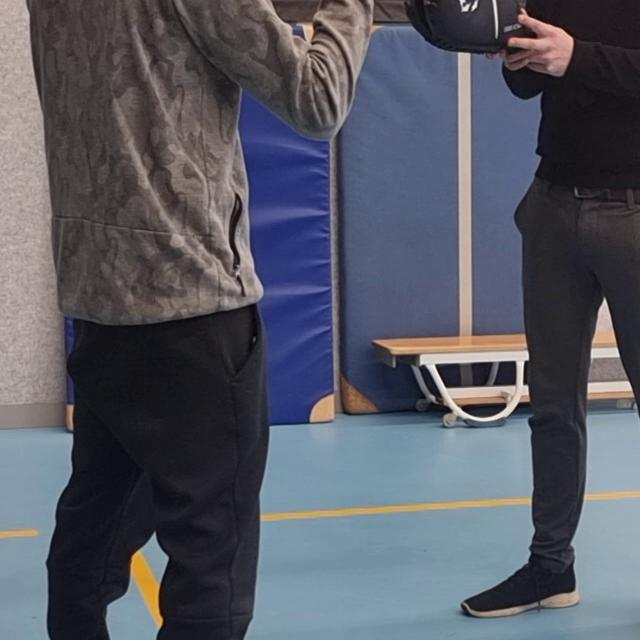paddle: (399, 0, 531, 51)
